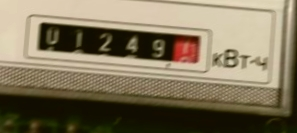0: (44, 25, 59, 47)
1: (71, 28, 84, 50)
2: (95, 31, 113, 54)
4: (124, 33, 139, 55)
7: (178, 35, 193, 56)
9: (150, 38, 165, 60)
screen: (20, 11, 215, 77)
